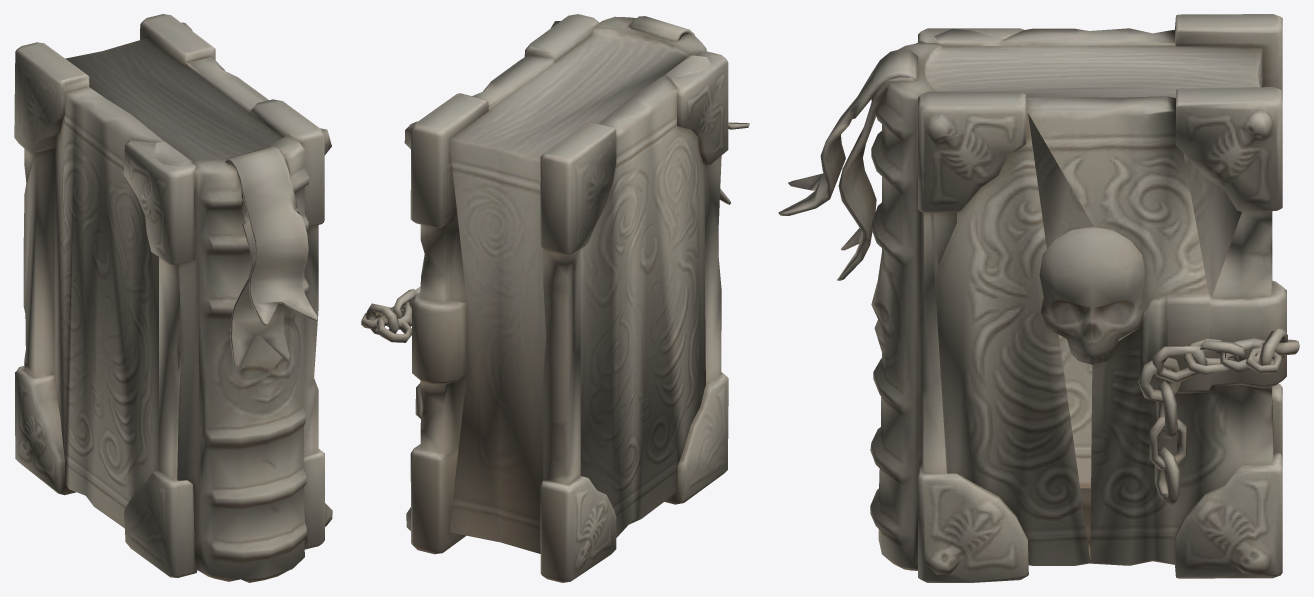
File: gear_grimoire.glb
3 views of the same model, side by side, from view 1: azimuth 30°, elevation 25°; view 2: azimuth 150°, elevation 25°; view 3: azimuth 270°, elevation 25° (orthographic). The views are drawn at different scales.
Visible parts, largest first — view 1: tripo_node_5e9d01ed-8216-4313-ad97-b289dec88ec6; view 2: tripo_node_5e9d01ed-8216-4313-ad97-b289dec88ec6; view 3: tripo_node_5e9d01ed-8216-4313-ad97-b289dec88ec6.
Boxes of the visible parts, x1,y1,x2,y2 form: tripo_node_5e9d01ed-8216-4313-ad97-b289dec88ec6: (14,14,332,582); tripo_node_5e9d01ed-8216-4313-ad97-b289dec88ec6: (361,14,749,582); tripo_node_5e9d01ed-8216-4313-ad97-b289dec88ec6: (778,14,1299,582).
Size of the model in its own units: 0.1881 by 0.36 by 0.3473.
Materials: 1 (1 with a texture image).
